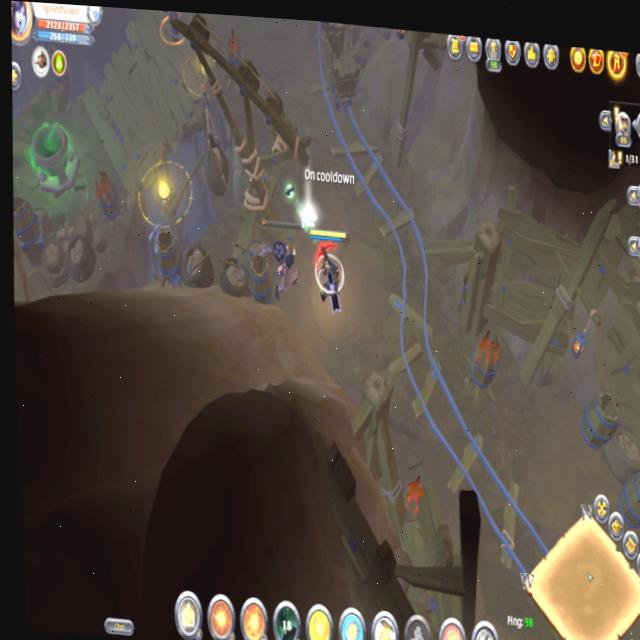ore: (257, 215, 305, 304), (151, 10, 190, 49)
red: (304, 222, 356, 321)
stone: (299, 203, 318, 232)
